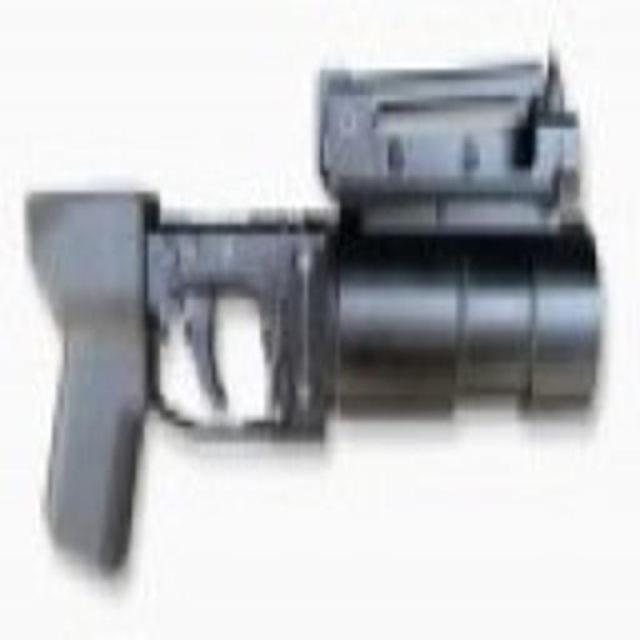pistol: (35, 63, 591, 581)
